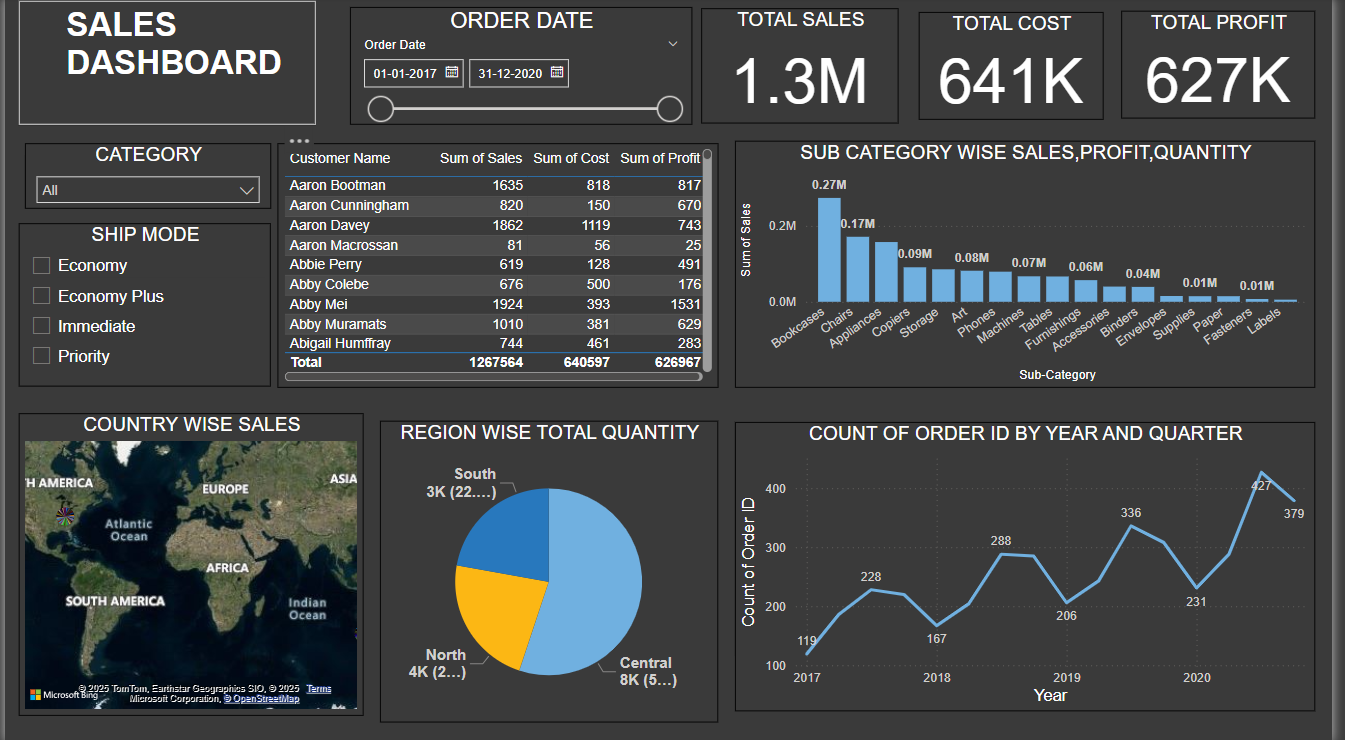

The page's visual inventory and layout, read from the dashboard file:
{"tool":"powerbi","page":{"name":"Page 1","canvas":[1280,720],"ordinal":0},"visuals":[{"type":"card","title":"TOTAL SALES","fields":{"Values":["Sum(List of Orders.Sales)"]},"box":[672.6,11,190.8,111.3],"z":0},{"type":"card","title":"TOTAL COST","fields":{"Values":["Sum(List of Orders.Cost)"]},"box":[881.7,14.7,178.5,103.9],"z":1000},{"type":"card","title":"TOTAL PROFIT","fields":{"Values":["Sum(List of Orders.Profit)"]},"box":[1077.3,13.5,187.1,103.9],"z":2000},{"type":"clusteredColumnChart","title":"SUB CATEGORY WISE SALES,PROFIT,QUANTITY","fields":{"Y":["Sum(List of Orders.Sales)"],"Category":["List of Orders.Sub-Category"]},"box":[704.4,138.2,560.1,238.5],"z":3000},{"type":"tableEx","fields":{"Values":["List of Orders.Customer Name","Sum(List of Orders.Sales)","Sum(List of Orders.Cost)","Sum(List of Orders.Profit)"]},"box":[262.9,140.6,425.5,236],"z":4000},{"type":"lineChart","title":"COUNT OF ORDER ID BY YEAR AND QUARTER","fields":{"Y":["CountNonNull(List of Orders.Order ID)"],"Category":["List of Orders.Order Date.Variation.Date Hierarchy.Year","List of Orders.Order Date.Variation.Date Hierarchy.Quarter"]},"box":[704.4,409.6,560.1,278.8],"z":5000},{"type":"pieChart","title":"REGION WISE TOTAL QUANTITY","fields":{"Y":["Sum(List of Orders.Quantity)"],"Category":["List of Orders.Region"]},"box":[362,408.4,326.5,291],"z":6000},{"type":"textbox","box":[13.5,3.7,286.1,119.8],"z":7000},{"type":"slicer","title":"SHIP MODE","fields":{"Values":["List of Orders.Ship Mode"]},"box":[13.5,218.9,243.3,157.7],"z":8000},{"type":"slicer","title":"ORDER DATE","fields":{"Values":["List of Orders.Order Date"]},"box":[332.6,9.8,330.2,113.7],"z":9000},{"type":"map","title":"COUNTRY WISE SALES","fields":{"Category":["List of Orders.Country"],"Series":["List of Orders.Sales"]},"box":[13.5,402.3,332.6,292.3],"z":10000},{"type":"slicer","title":"CATEGORY","fields":{"Values":["List of Orders.Category"]},"box":[19.6,140.6,237.2,63.6],"z":11000}]}

Visuals, with their boxes in screenshot pixels (x1, y1, x2, y2), scaled from the page's 1280x720 canvas onto the 1345x740 screenshot:
"TOTAL SALES" card: <region>707, 11, 907, 126</region>
"TOTAL COST" card: <region>926, 15, 1114, 122</region>
"TOTAL PROFIT" card: <region>1132, 14, 1329, 121</region>
"SUB CATEGORY WISE SALES,PROFIT,QUANTITY" clusteredColumnChart: <region>740, 142, 1329, 387</region>
tableEx - List of Orders.Customer Name x Sum(List of Orders.Sales): <region>276, 145, 723, 387</region>
"COUNT OF ORDER ID BY YEAR AND QUARTER" lineChart: <region>740, 421, 1329, 708</region>
"REGION WISE TOTAL QUANTITY" pieChart: <region>380, 420, 723, 719</region>
textbox: <region>14, 4, 315, 127</region>
"SHIP MODE" slicer: <region>14, 225, 270, 387</region>
"ORDER DATE" slicer: <region>349, 10, 696, 127</region>
"COUNTRY WISE SALES" map: <region>14, 413, 364, 714</region>
"CATEGORY" slicer: <region>21, 145, 270, 210</region>
